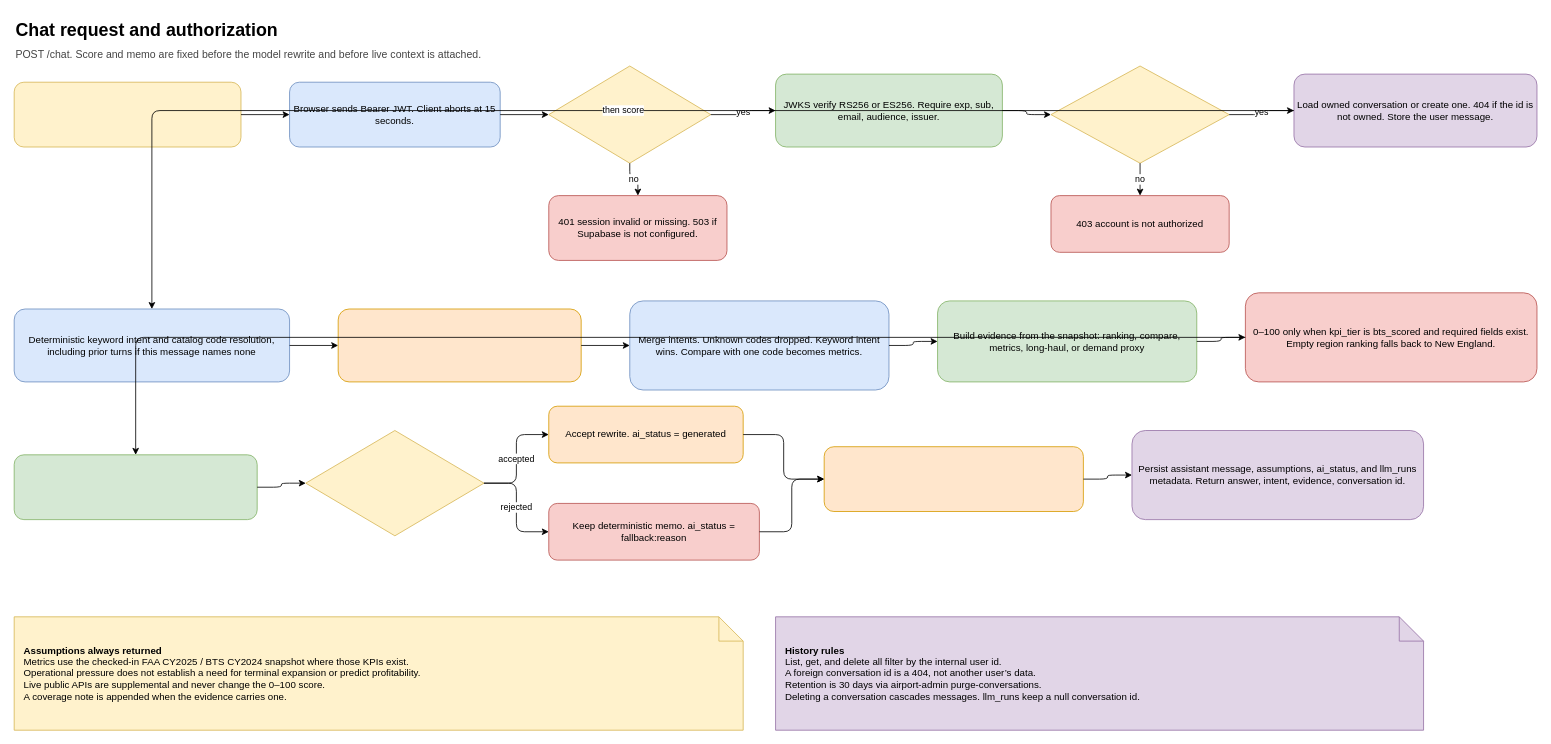
This 1551x744 diagram has some shape labels left out. Each missing label, with the box of its shape:
Analyst submits a question and optional Groq or Gemini override: (13, 81, 241, 147)
app_users row active and email matches subject?: (1050, 65, 1229, 163)
Attach live context for the evidence codes. Unavailable sections stay explicit.: (823, 446, 1083, 512)
Deterministic four-heading memo from evidence alone: (13, 454, 257, 520)
In parallel: prefetch live context for up to two codes, and LLM classify: (337, 308, 581, 382)
Second model call: rewrite wording?: (305, 430, 484, 536)
Token present and auth configured?: (548, 65, 711, 163)
